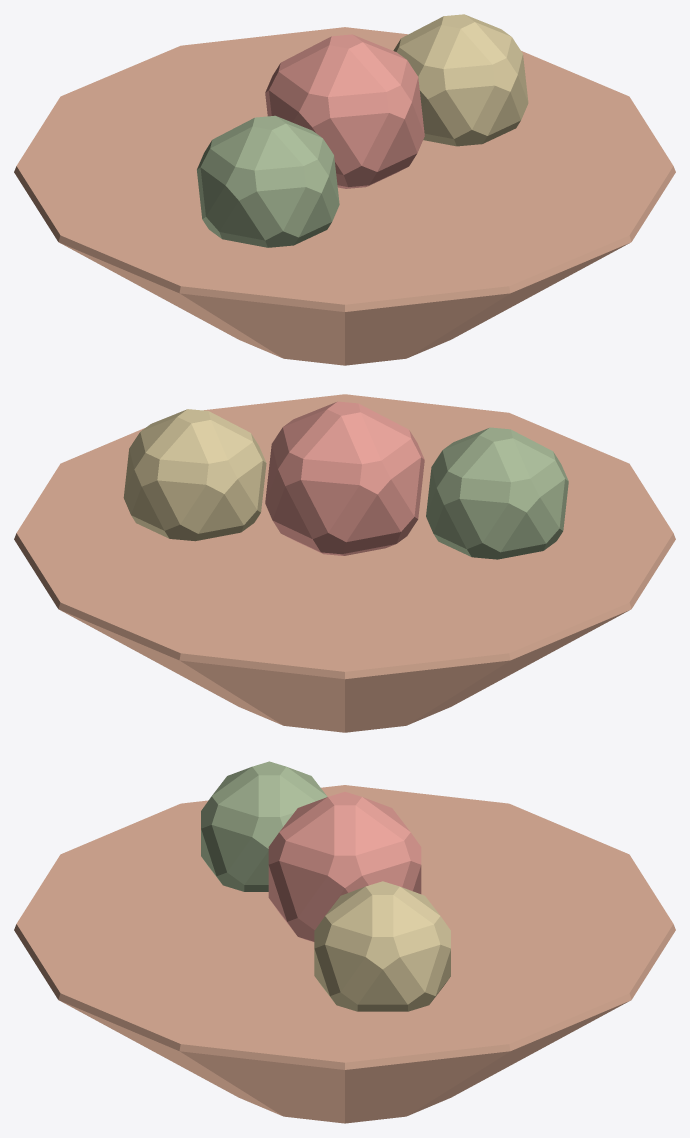
Rendered from SM_Fruit_Bowl.fbx.
3 views of the same model, one above another, from view 1: azimuth 30°, elevation 25°; view 2: azimuth 150°, elevation 25°; view 3: azimuth 270°, elevation 25° (orthographic).
Parts seen in each view (by area): view 1: Fruit_Bowl; view 2: Fruit_Bowl; view 3: Fruit_Bowl.
Part boxes in pixels (x1,y1,x2,y2): Fruit_Bowl: (14,14,675,365); Fruit_Bowl: (14,394,675,732); Fruit_Bowl: (14,761,675,1123).
Bounding box in the file's own units: 35.02 × 16.27 × 35.02.
